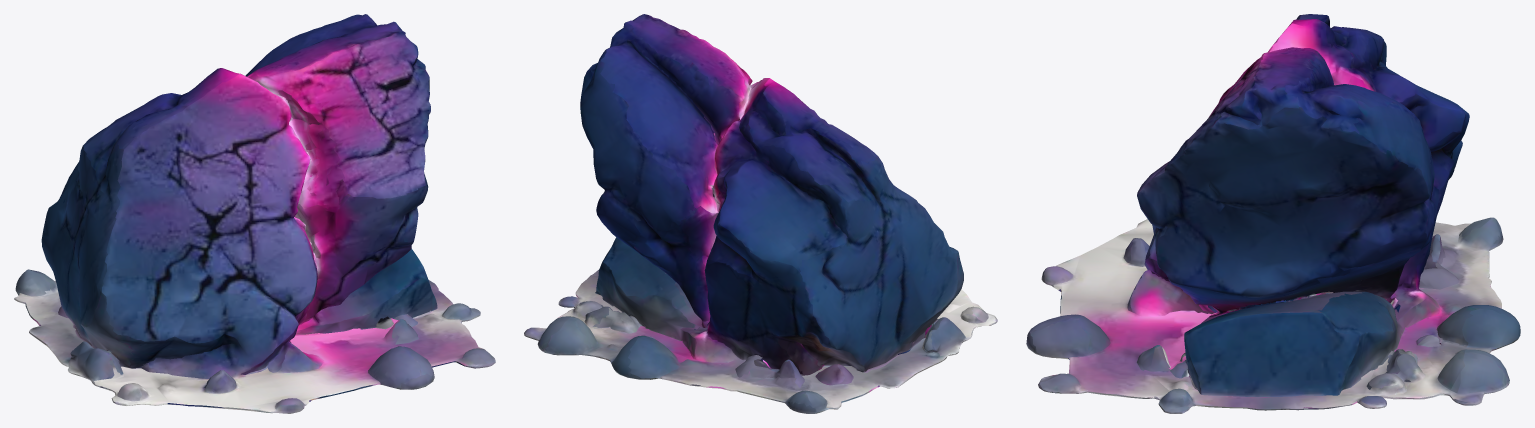
The model's file is shore-stone-7-generated-2026-05-17T20-10-40-578Z.low.glb.
The picture shows the model from 3 angles, left to right: view 1: azimuth 30°, elevation 25°; view 2: azimuth 150°, elevation 25°; view 3: azimuth 270°, elevation 25°; orthographic projection. The views are drawn at different scales.
Visible parts, largest first — view 1: temp_mesh.ply; view 2: temp_mesh.ply; view 3: temp_mesh.ply.
Part boxes in pixels (x1,y1,x2,y2): temp_mesh.ply: (14, 14, 495, 413); temp_mesh.ply: (524, 14, 997, 413); temp_mesh.ply: (1026, 14, 1520, 413).
Bounding box in the file's own units: 1.97 × 1.36 × 1.97.
1 material, 1 textured.
